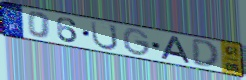0: (26, 10, 53, 40)
6: (55, 17, 79, 44)
A: (158, 35, 193, 66)
D: (190, 38, 221, 70)
G: (122, 27, 152, 58)
U: (90, 20, 120, 52)
